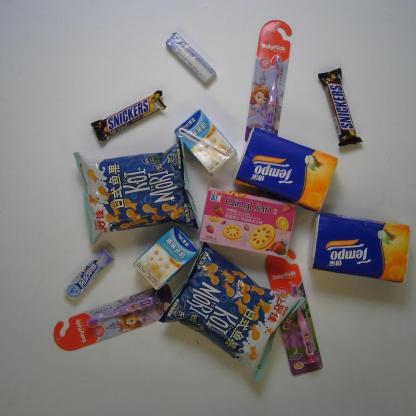Candy: (164, 30, 218, 86), (61, 247, 115, 302)
Chocolate: (88, 89, 168, 143), (316, 66, 364, 147)
Dessert: (198, 184, 298, 260)
Milk: (131, 223, 201, 292), (172, 108, 239, 178)
Personal Hygiene: (51, 280, 174, 353), (262, 247, 324, 378), (242, 19, 293, 144)
Puffed Food: (157, 240, 309, 385), (71, 137, 202, 248)
Tissue: (232, 125, 340, 214), (306, 210, 412, 285)
